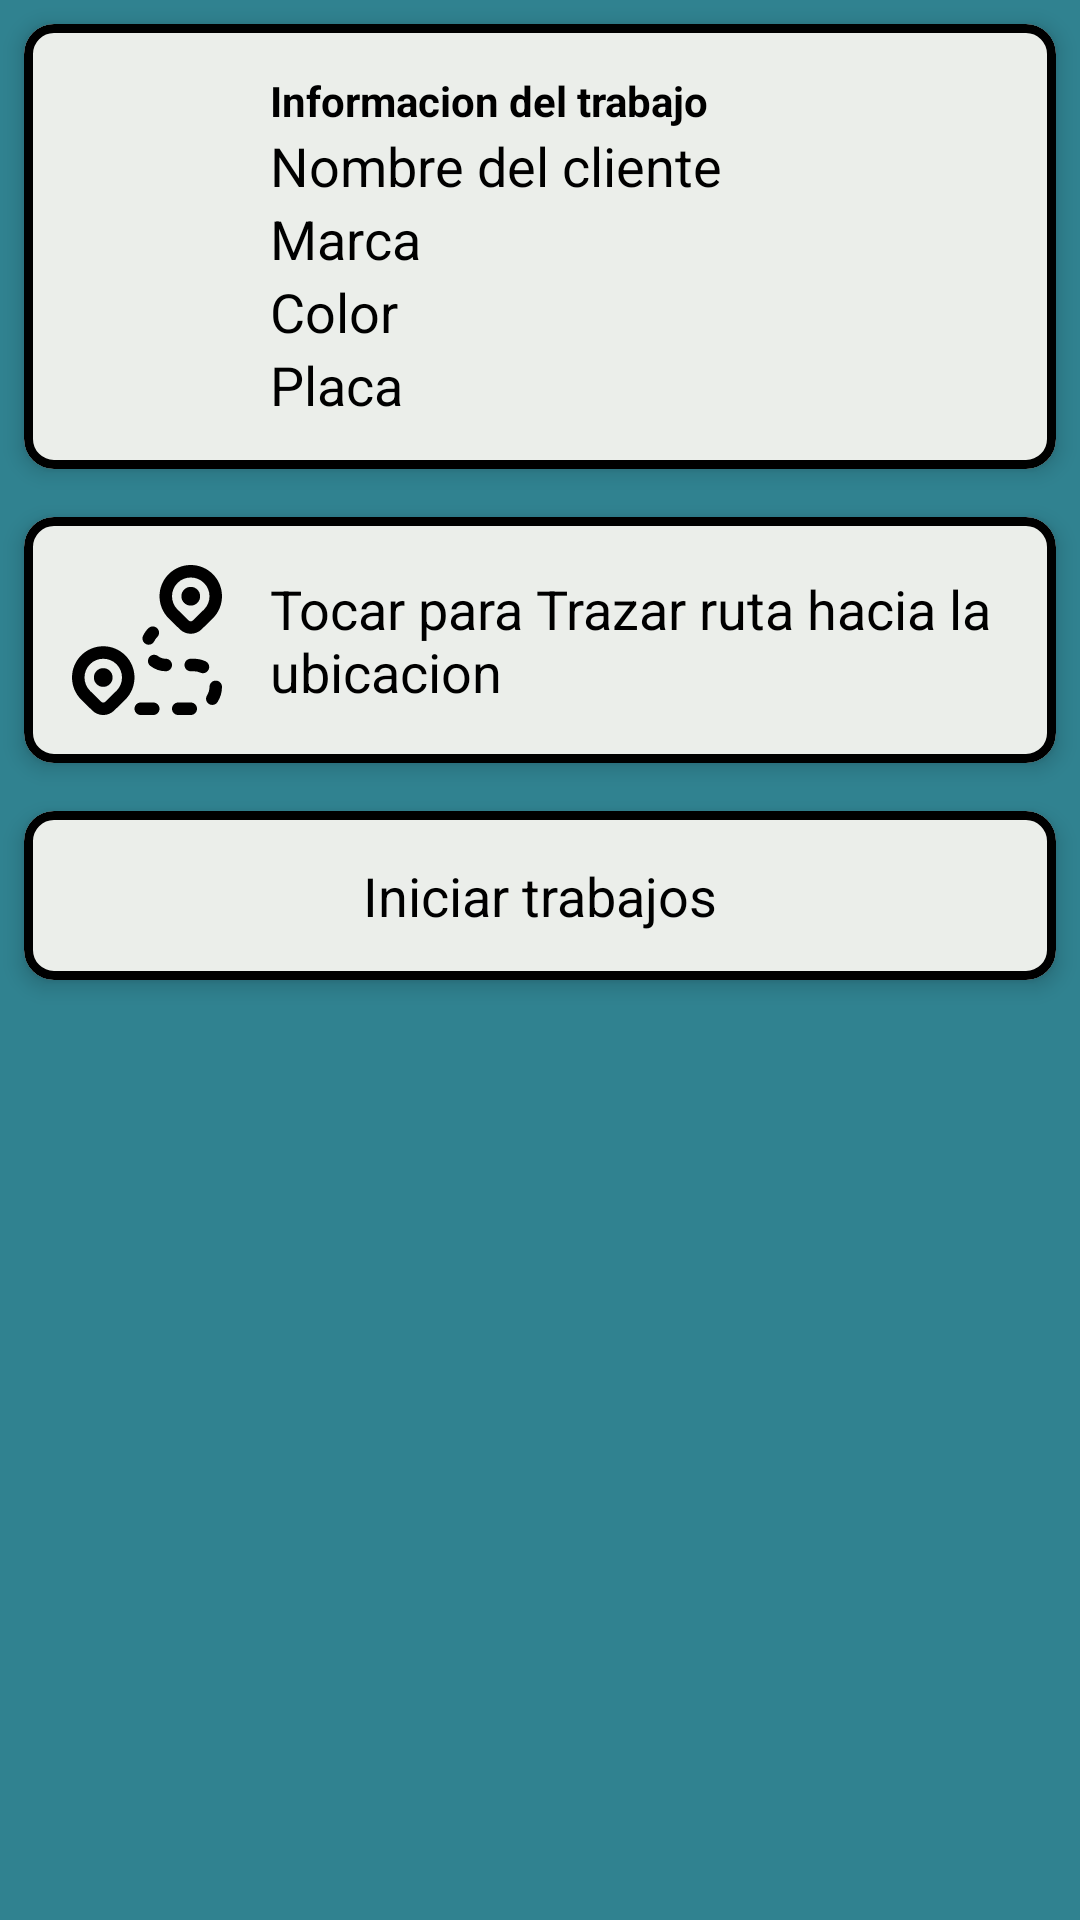

Named icons in this screenshot (1080*1920) and their centers, (x,y):
map location track: (147,640)
